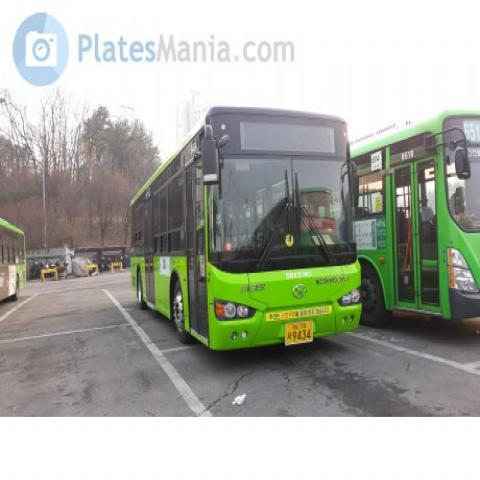LP: (277, 320, 318, 346)
